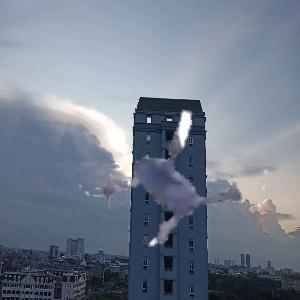drone: (72, 49, 294, 271)
